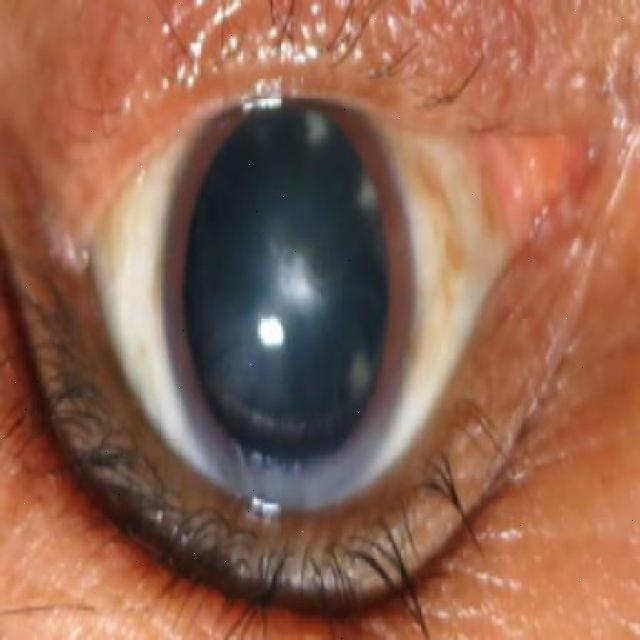Cataract: (156, 76, 416, 509)
